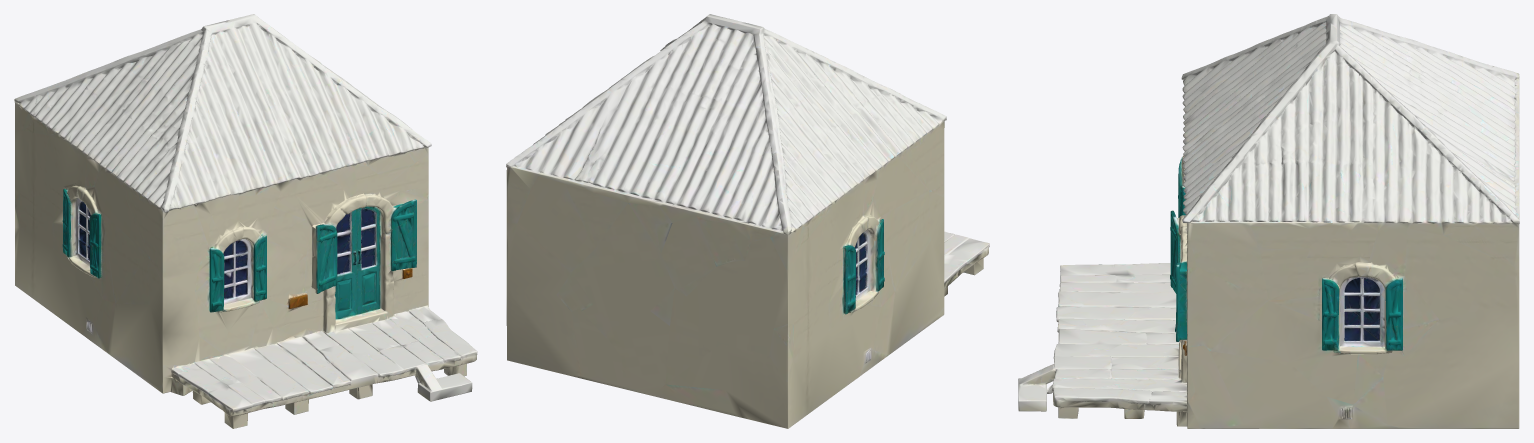
The model's file is bermuda-house-b.glb.
The picture shows the model from 3 angles, left to right: view 1: azimuth 30°, elevation 25°; view 2: azimuth 150°, elevation 25°; view 3: azimuth 270°, elevation 25°; orthographic projection. The views are drawn at different scales.
Bounding box in the file's own units: 1.37 × 1.38 × 1.9.
1 material, 1 textured.
